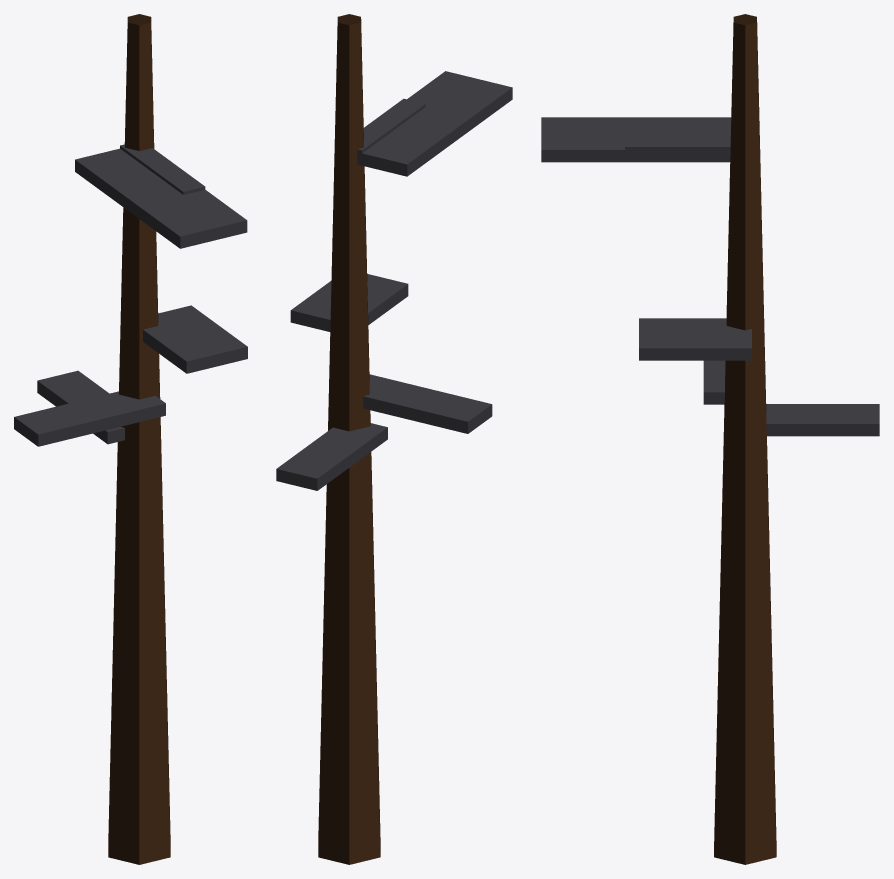
File: deadpine.gltf
The picture shows the model from 3 angles, left to right: view 1: azimuth 30°, elevation 25°; view 2: azimuth 150°, elevation 25°; view 3: azimuth 270°, elevation 25°; orthographic projection.
Bounding box in the file's own units: 1.82 × 8.14 × 3.
